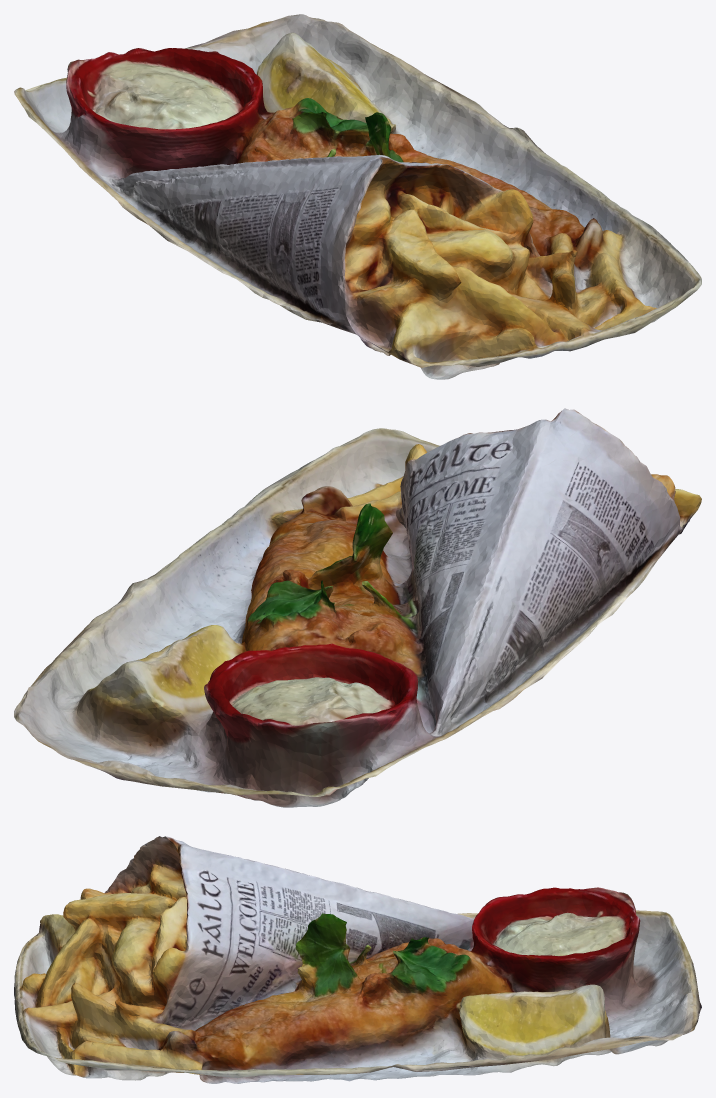
Rendered from chicken-fries-2.glb.
3 renders of one model, top to bottom at view 1: azimuth 30°, elevation 25°; view 2: azimuth 150°, elevation 25°; view 3: azimuth 270°, elevation 25°, orthographic. The views are drawn at different scales.
Parts seen in each view (by area): view 1: Mesh_0.001; view 2: Mesh_0.001; view 3: Mesh_0.001.
Boxes of the visible parts, <box> form: Mesh_0.001: <box>14,14,701,379</box>; Mesh_0.001: <box>14,408,701,807</box>; Mesh_0.001: <box>14,836,701,1083</box>.
Bounding box in the file's own units: 0.636 × 0.2838 × 1.17.
1 material, 1 textured.
